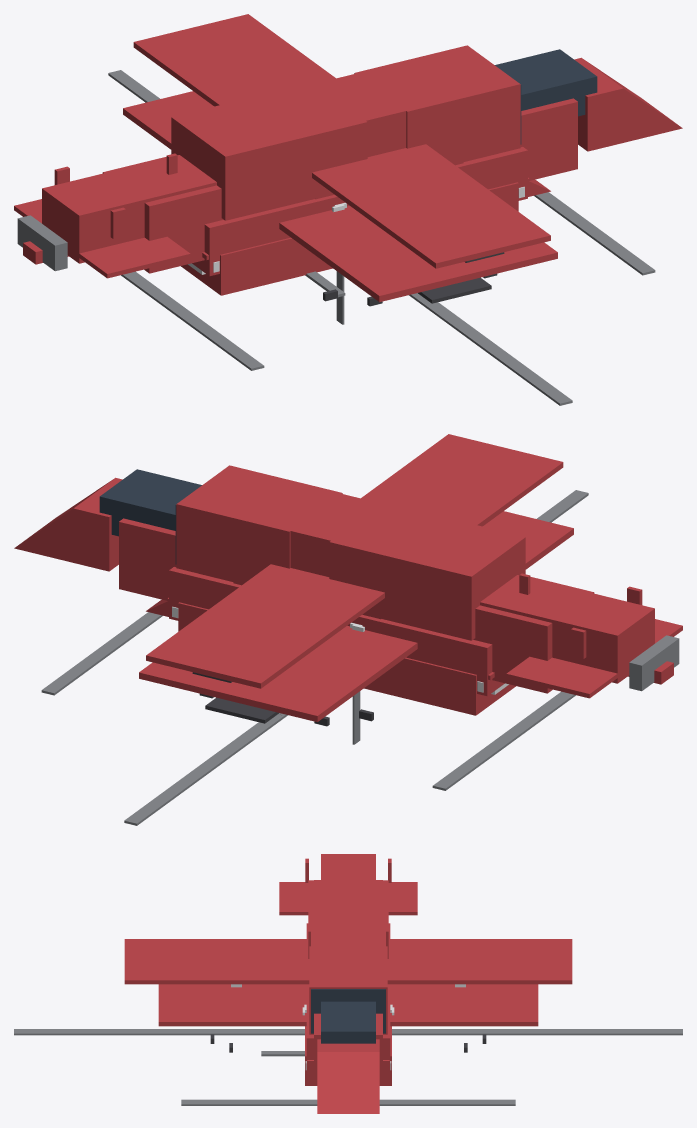
Rendered from Veh_All.fbx.
3 views of the same model, one above another, from view 1: azimuth 30°, elevation 25°; view 2: azimuth 150°, elevation 25°; view 3: azimuth 270°, elevation 25° (orthographic). The views are drawn at different scales.
Visible parts, largest first — view 1: SM_Veh_Jet, SM_Veh_FireTruck, SM_Veh_PropPlane, SM_Veh_BoxTruck, SM_Veh_Rotor, SM_Veh_Speedboat; view 2: SM_Veh_Jet, SM_Veh_FireTruck, SM_Veh_PropPlane, SM_Veh_BoxTruck, SM_Veh_Rotor, SM_Veh_Speedboat; view 3: SM_Veh_Jet, SM_Veh_PropPlane, SM_Veh_FireTruck, SM_Veh_Rotor, SM_Veh_BoxTruck, SM_Veh_Propeller, SM_Veh_Speedboat.
Part boxes in pixels (<box>): SM_Veh_Jet: <box>14,49,682,303</box>; SM_Veh_FireTruck: <box>171,45,529,276</box>; SM_Veh_PropPlane: <box>133,14,550,306</box>; SM_Veh_BoxTruck: <box>222,54,509,222</box>; SM_Veh_Rotor: <box>108,70,655,405</box>; SM_Veh_Speedboat: <box>181,179,550,295</box>; SM_Veh_Jet: <box>14,469,682,723</box>; SM_Veh_FireTruck: <box>167,465,525,696</box>; SM_Veh_PropPlane: <box>146,434,563,726</box>; SM_Veh_BoxTruck: <box>187,474,474,642</box>; SM_Veh_Rotor: <box>41,490,588,825</box>; SM_Veh_Speedboat: <box>146,599,515,715</box>; SM_Veh_Jet: <box>158,854,538,1113</box>; SM_Veh_PropPlane: <box>124,878,572,1043</box>; SM_Veh_FireTruck: <box>302,880,394,1073</box>; SM_Veh_Rotor: <box>14,1029,682,1105</box>; SM_Veh_BoxTruck: <box>304,909,392,1032</box>; SM_Veh_Propeller: <box>261,1029,464,1056</box>; SM_Veh_Speedboat: <box>305,1026,391,1085</box>.
Size of the model in its own units: 184000 by 148750 by 49500.
